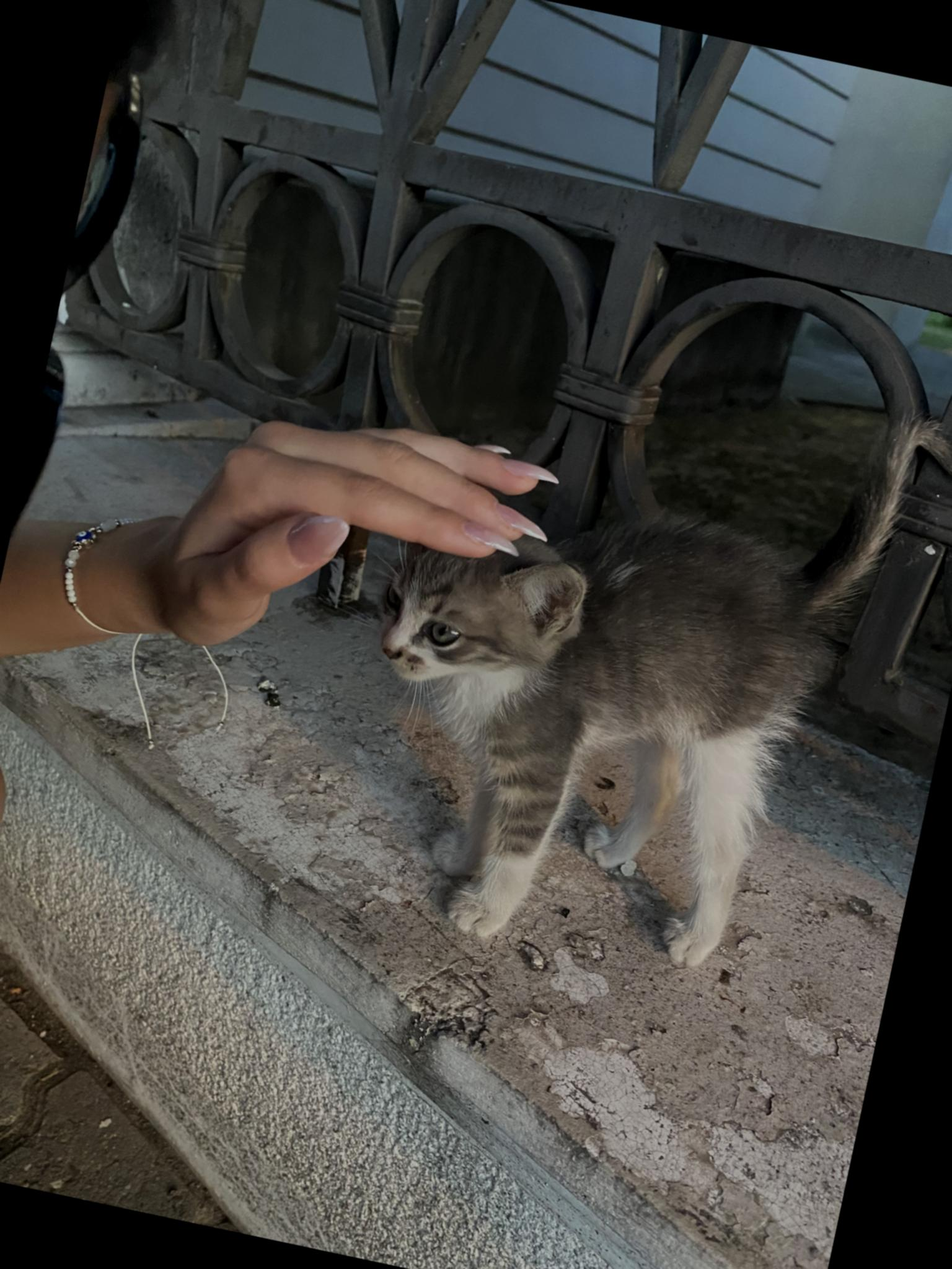macka: (315, 312, 952, 1014)
